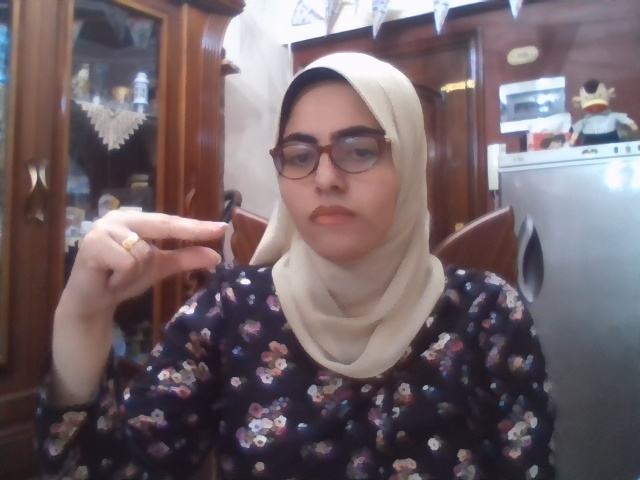no: (60, 210, 229, 316)
